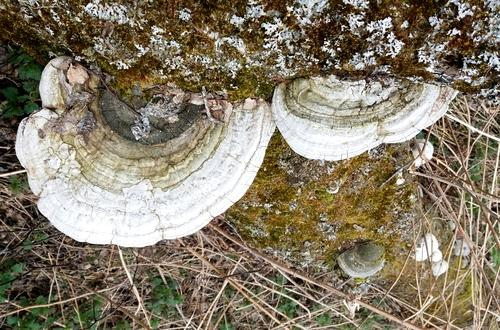Ganoderma - Fruit Body: (11, 49, 271, 253), (277, 75, 461, 162)
